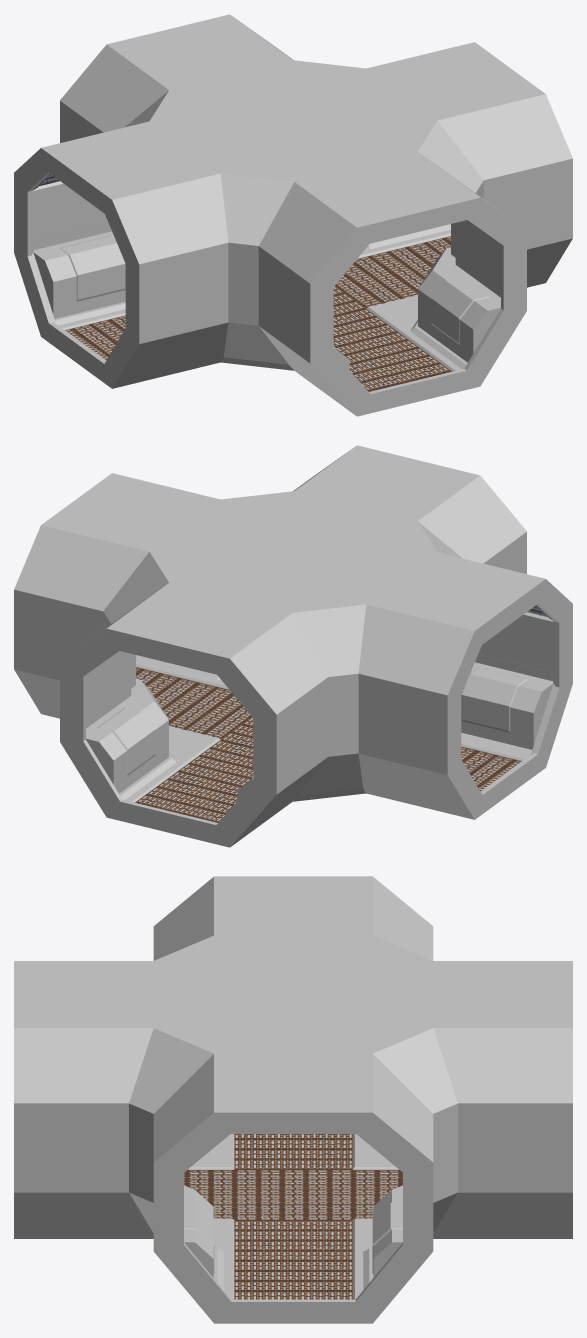
File: Corridor_X.fbx
3 views of the same model, one above another, from view 1: azimuth 30°, elevation 25°; view 2: azimuth 150°, elevation 25°; view 3: azimuth 270°, elevation 25° (orthographic). The views are drawn at different scales.
Visible parts, largest first — view 1: Corridor_X; view 2: Corridor_X; view 3: Corridor_X.
Part boxes in pixels (x1=…): Corridor_X: x1=14, y1=14, x2=572, y2=416; Corridor_X: x1=14, y1=445, x2=572, y2=847; Corridor_X: x1=14, y1=876, x2=572, y2=1323.
Size of what is drawn, in the model's own units: 800 by 333 by 800.
